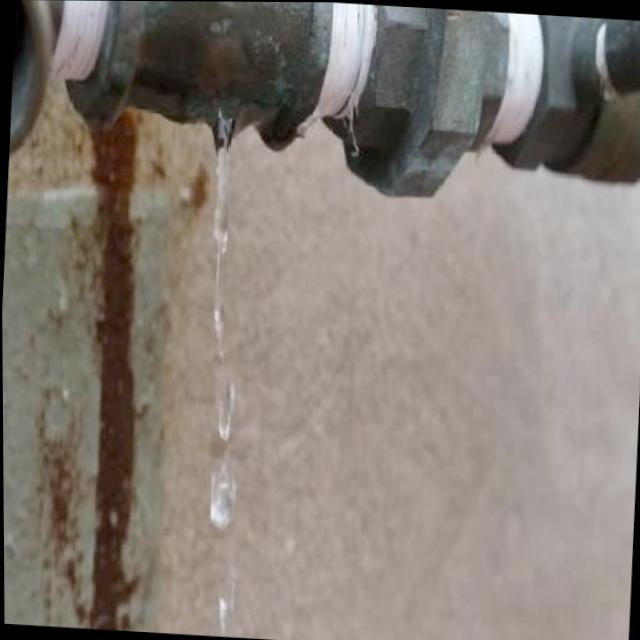leak: (213, 112, 234, 443), (210, 453, 234, 530), (218, 578, 233, 630)
